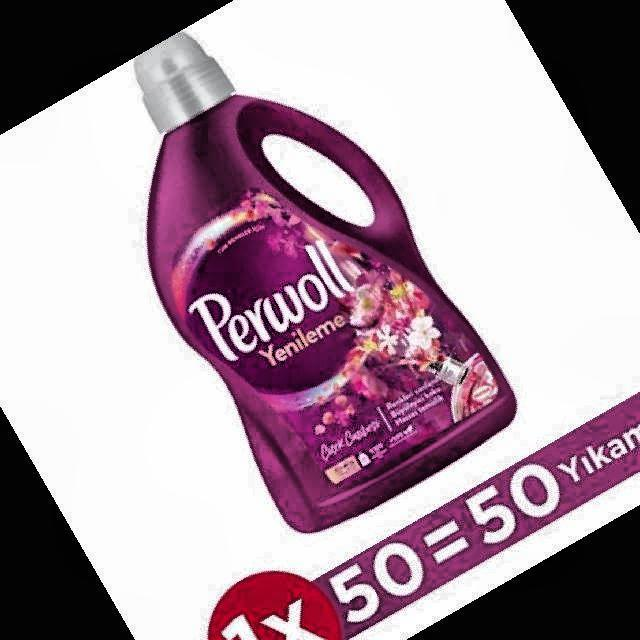plastic: (134, 32, 515, 531)
